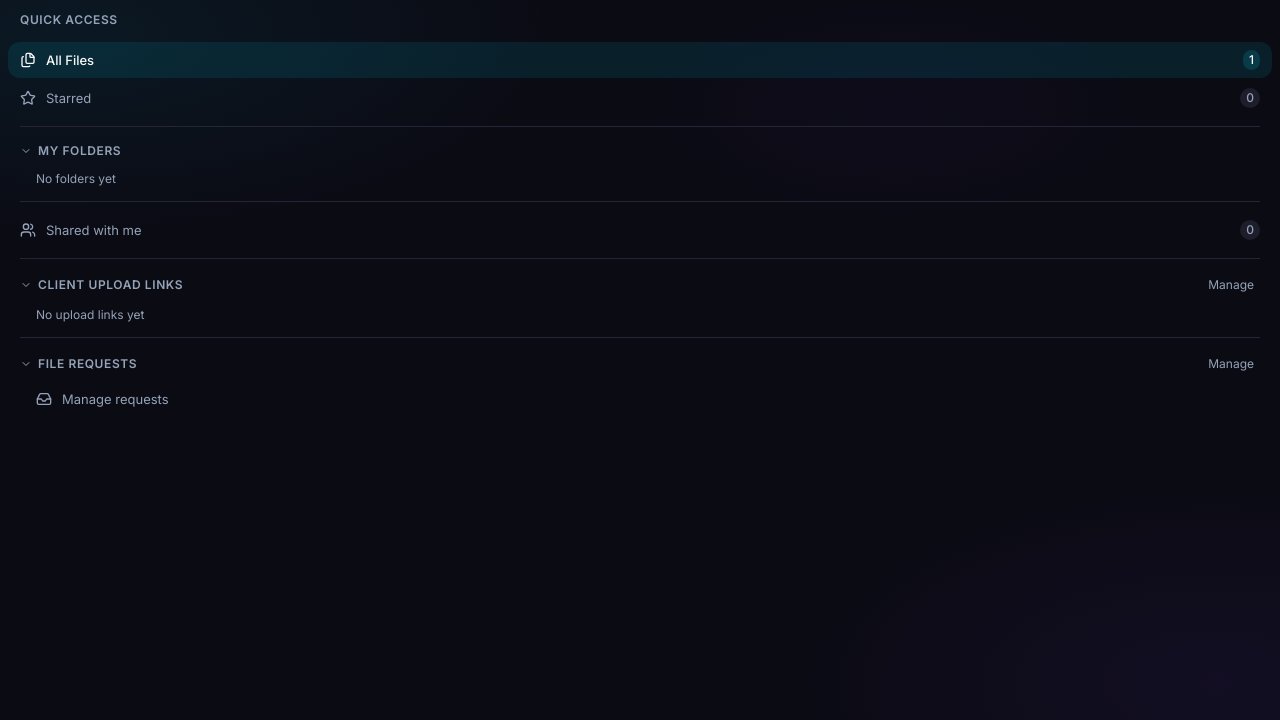
Test: VaultTree contrast › names the tree and exposes collapsible section state
Check: the navigation bar named "Vault navigation" is shown, box [0,0,1279,429]
Step 1. Click the button "My folders" → {"x": 80, "y": 150}, box [20,143,1260,159]
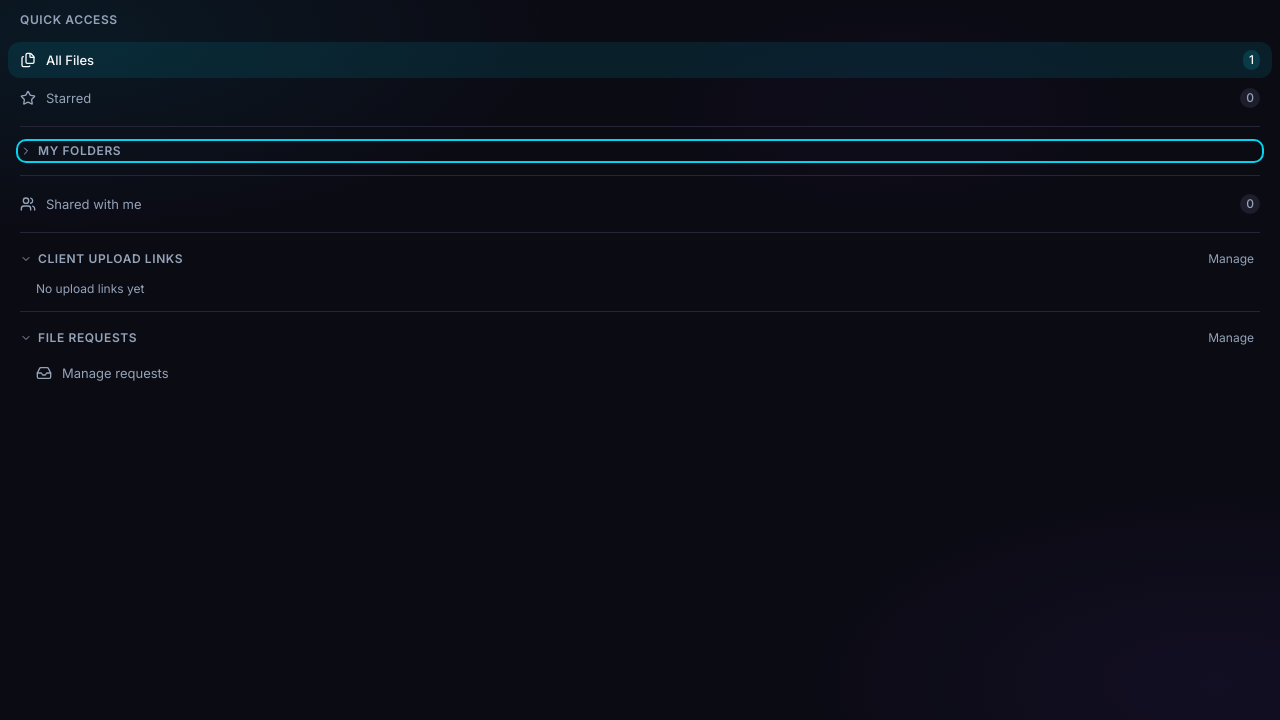
Check: the button "My folders" is collapsed, box [20,143,1260,159]
